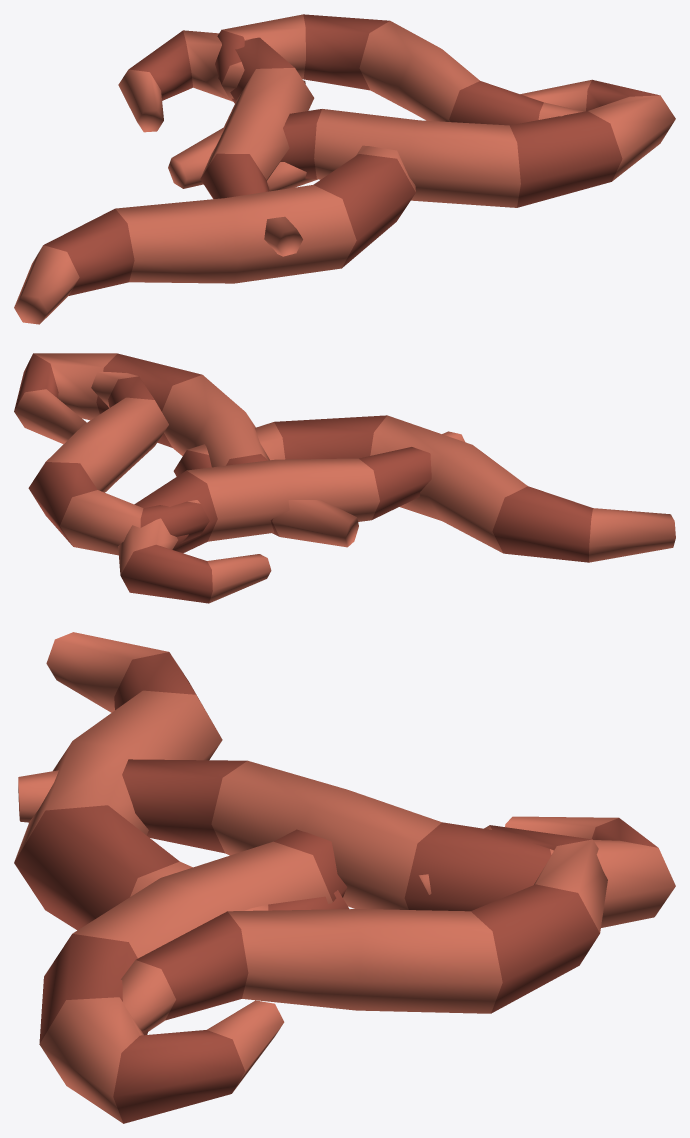
Rendered from FishingBaitStack4.glb.
The picture shows the model from 3 angles, top to bottom: view 1: azimuth 30°, elevation 25°; view 2: azimuth 150°, elevation 25°; view 3: azimuth 270°, elevation 25°; orthographic projection. The views are drawn at different scales.
Parts seen in each view (by area): view 1: EQ_FishingBait_x4; view 2: EQ_FishingBait_x4; view 3: EQ_FishingBait_x4.
Part boxes in pixels (<box>): EQ_FishingBait_x4: <box>14,14,675,324</box>; EQ_FishingBait_x4: <box>14,353,675,603</box>; EQ_FishingBait_x4: <box>14,632,675,1123</box>.
Size of the model in its own units: 0.7022 by 0.0881 by 0.4149.
